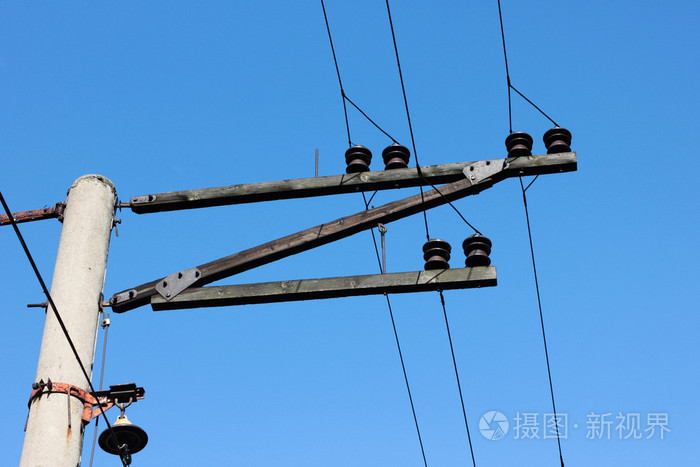insulator: (462, 234, 495, 268), (421, 237, 451, 270), (541, 127, 575, 156), (342, 146, 374, 172), (503, 130, 532, 158), (383, 146, 412, 171)
